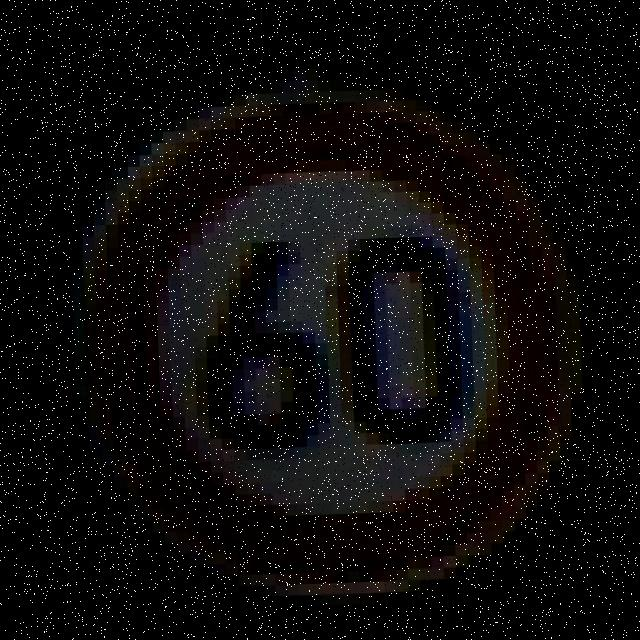Ograniczenie predkosci do 60: (25, 33, 640, 632)
